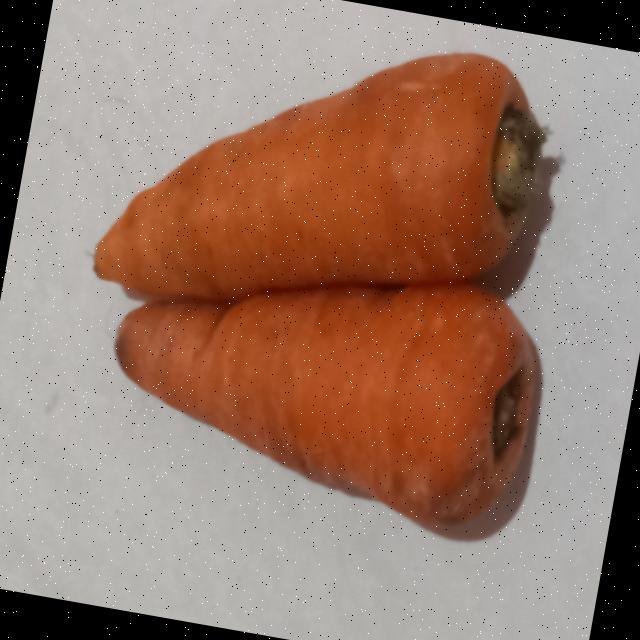carrot: (93, 52, 542, 302), (114, 283, 539, 538)
